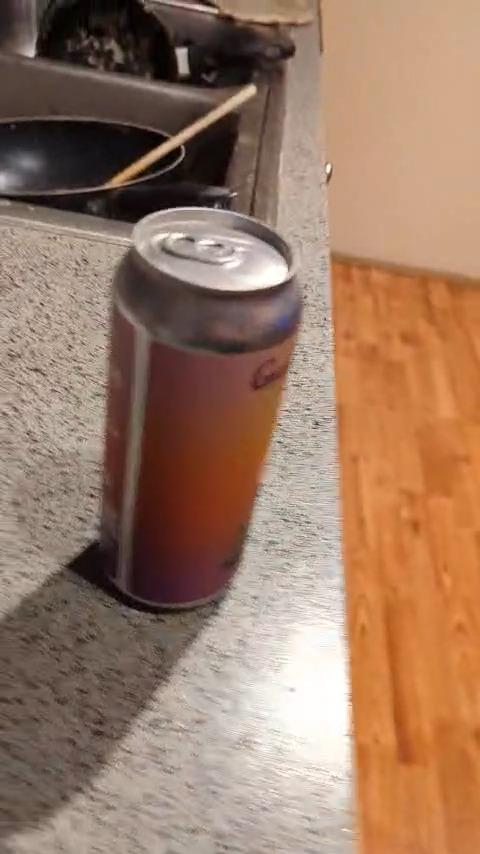metal: (101, 207, 300, 608)
